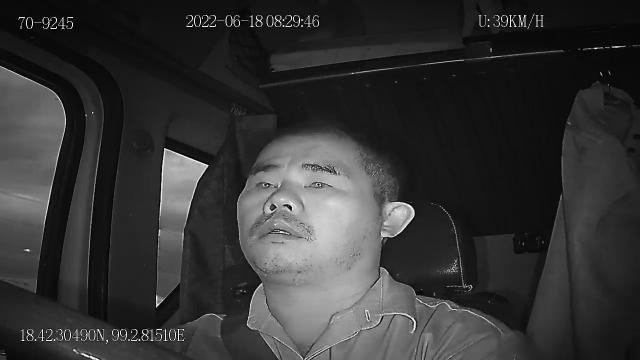SafeDriving: (297, 166, 342, 196), (246, 170, 282, 196)
Seatbelt: (218, 305, 280, 360)
